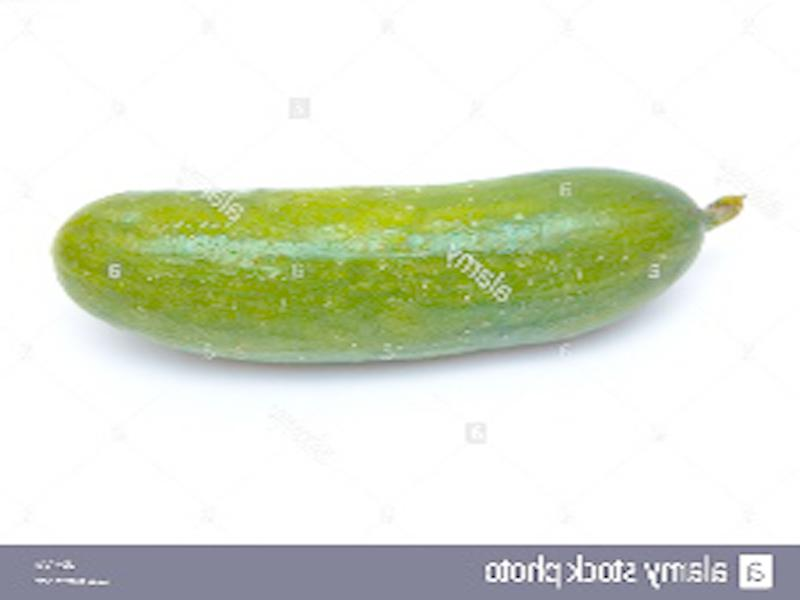Cucumber: (48, 167, 746, 362)
